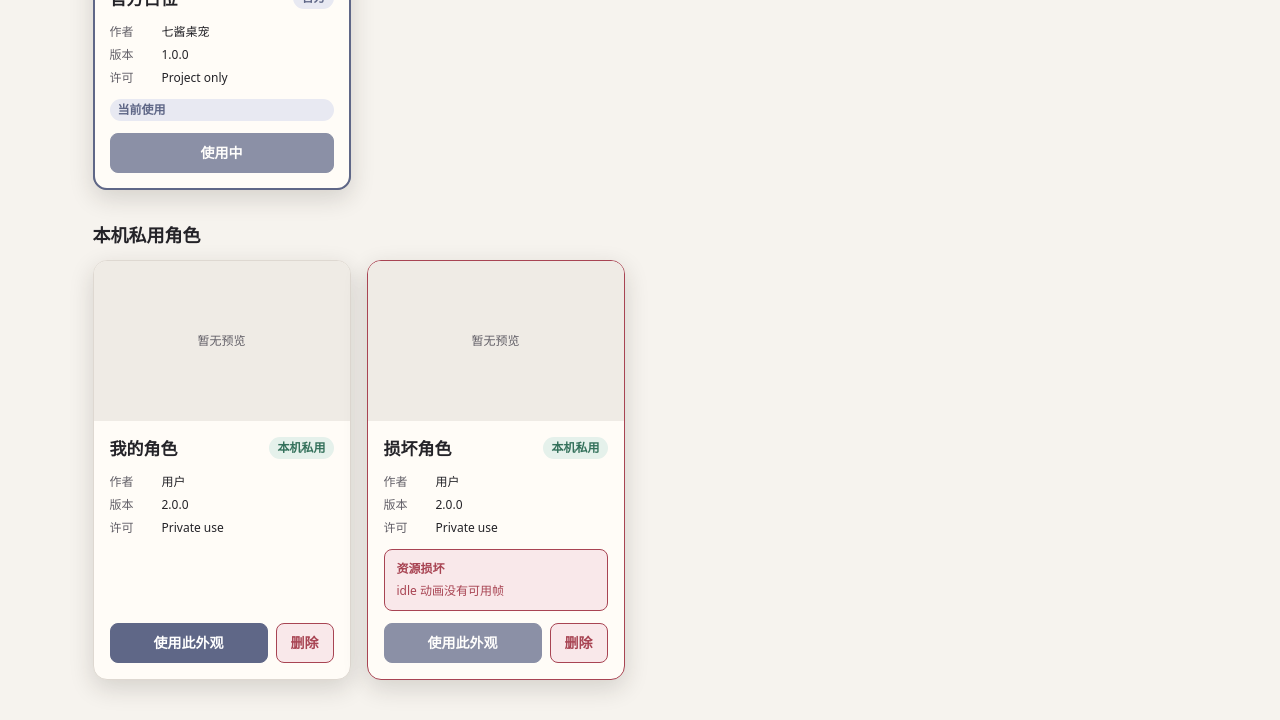
Test: AppearanceCenter › recovers from a missing selection result after a bounded wait
The width and height of the screenshot is (1280, 720).
(page scrolled)
Click the button "使用此外观" below "我的角色": [188, 643] box [110, 623, 268, 663]
(page scrolled)
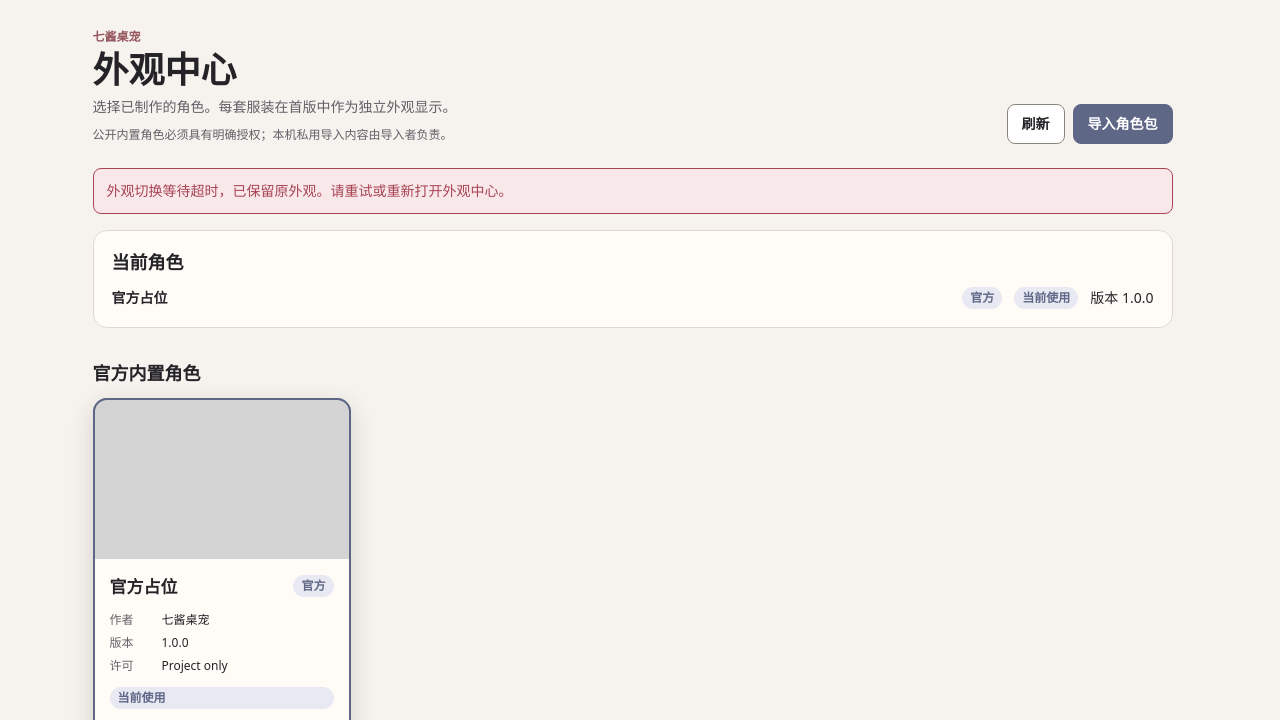
Check: the text "外观切换等待超时，已保留原外观。请重试或重新打开外观中心。" is shown, box [92, 168, 1172, 214]
